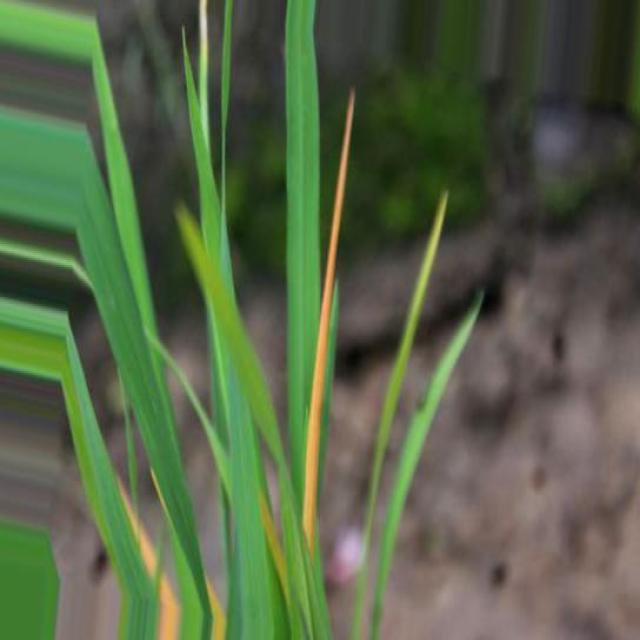Rice Tungro: (302, 88, 354, 553), (117, 477, 158, 578), (156, 573, 180, 638)
